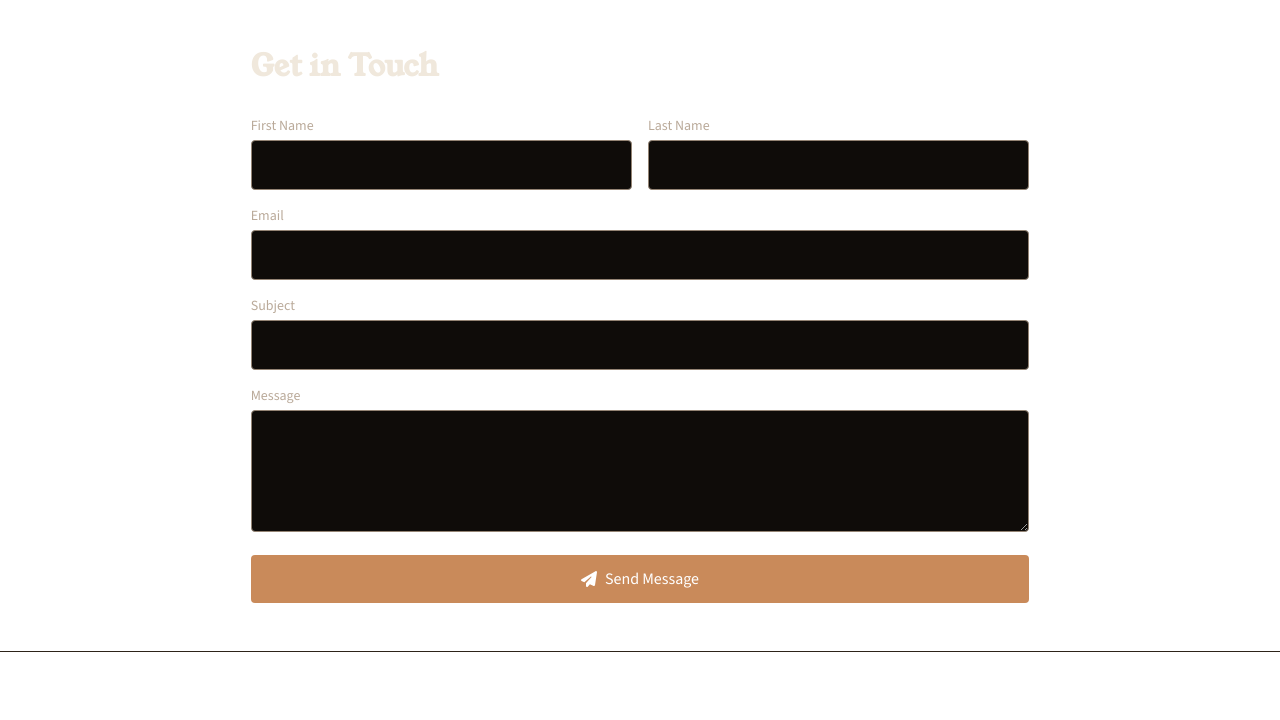
Test: Contact › shows field-specific length and email errors
The image size is (1280, 720).
In the field with id "firstName": (441, 165) left=251, top=140, right=632, bottom=190, type "A"
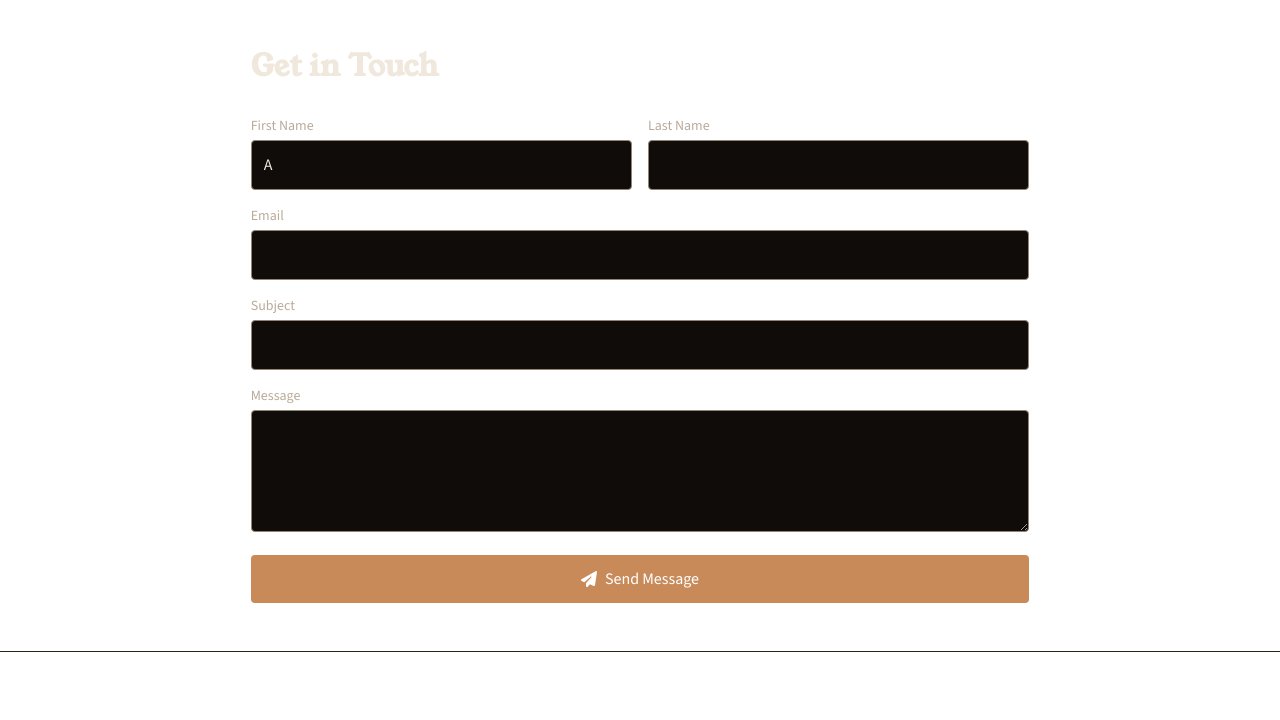
In the field with id "lastName": (839, 165) left=648, top=140, right=1029, bottom=190, type "B"
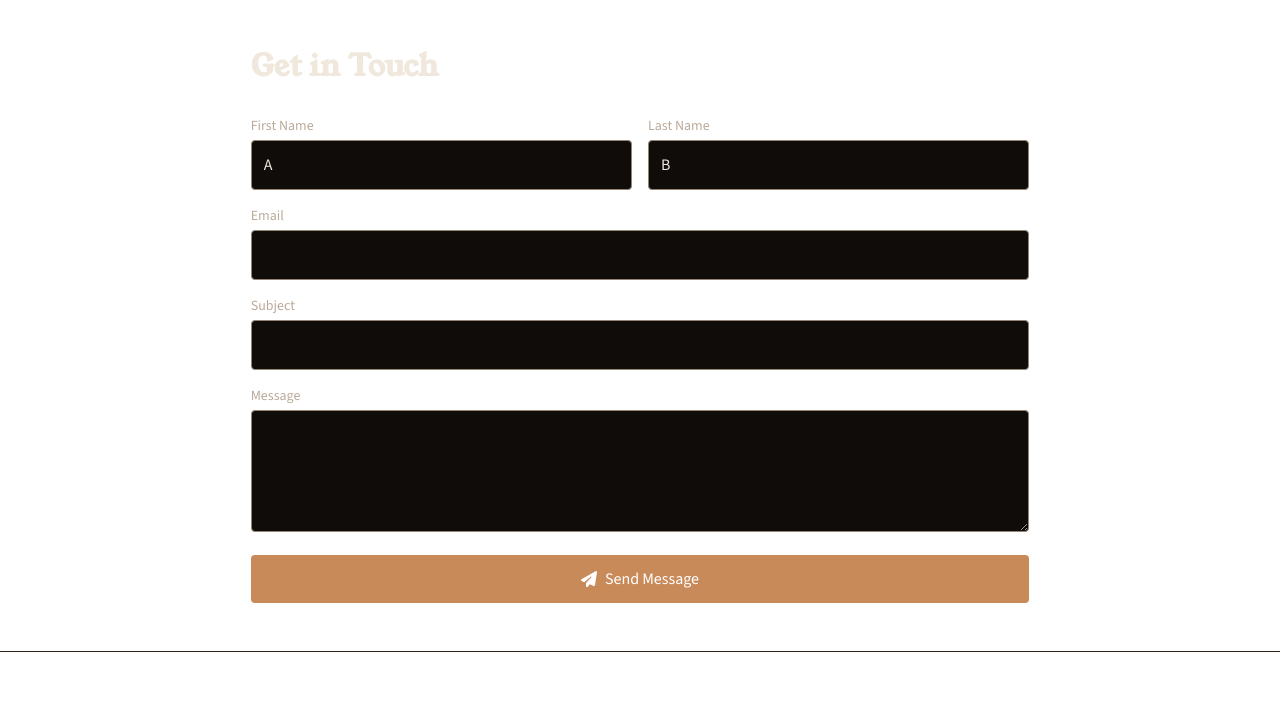
In the field with id "email": (640, 255) left=251, top=230, right=1029, bottom=280, type "not-an-email"
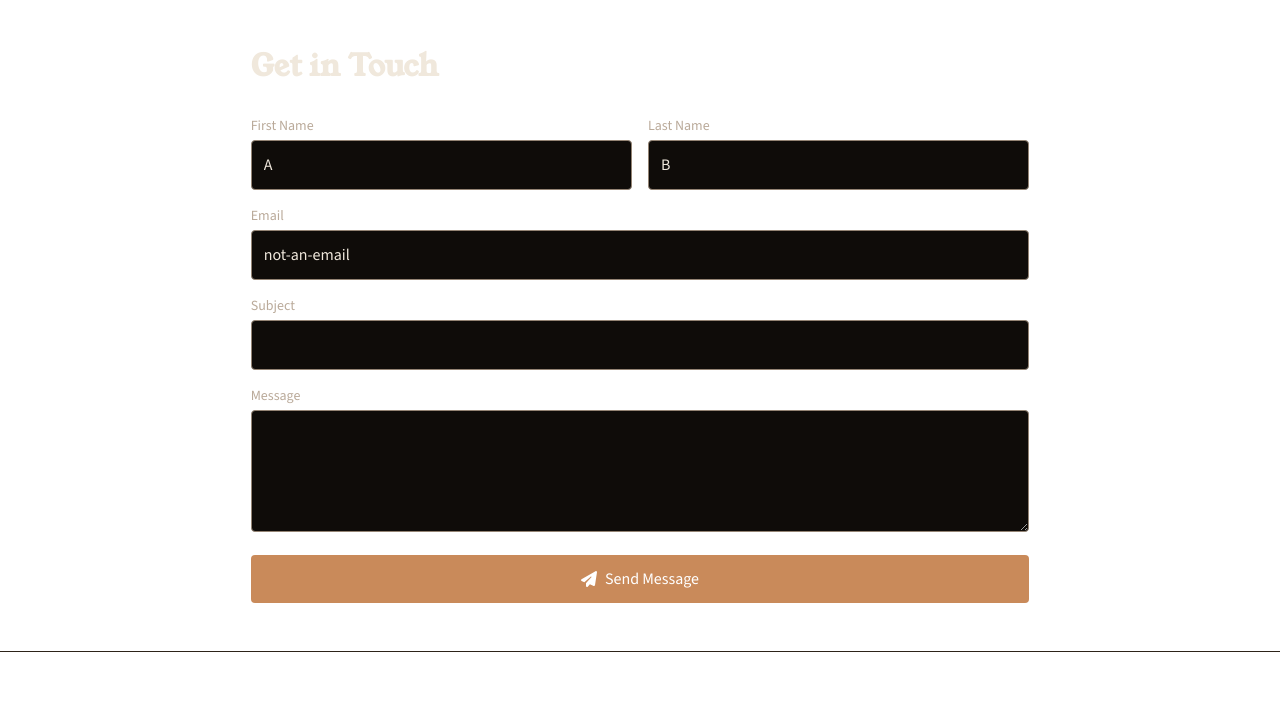
In the field with id "subject": (640, 345) left=251, top=320, right=1029, bottom=370, type "Hi"
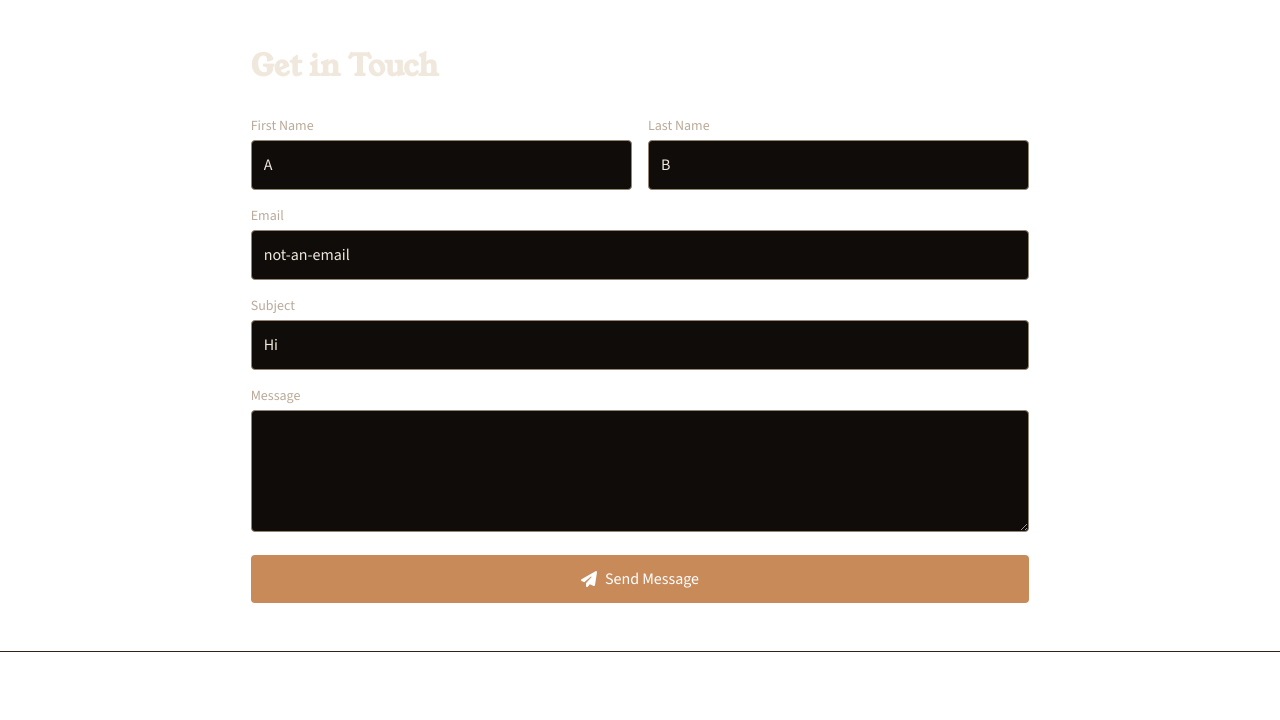
In the text box with id "message": (640, 471) left=251, top=410, right=1029, bottom=532, type "Too short"
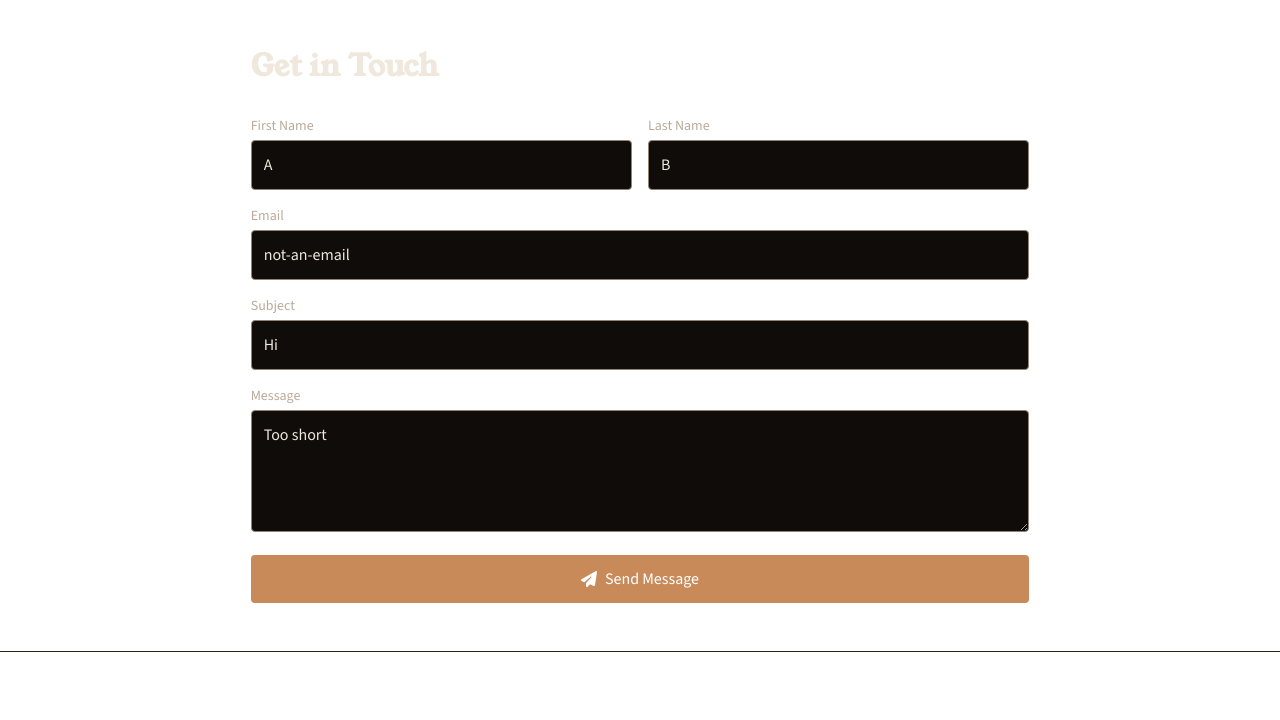
Submit the form, box left=251, top=116, right=1029, bottom=603
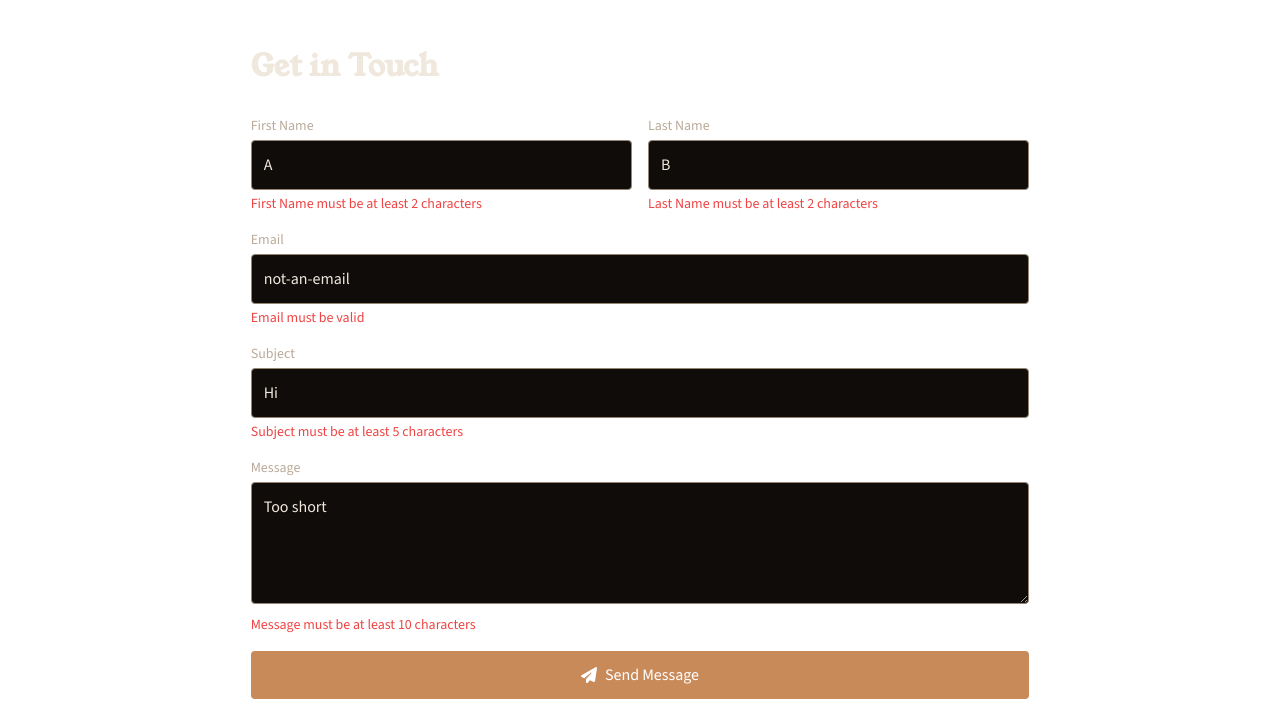
Expected: the text "First Name must be at least 2 characters" is shown, left=251, top=194, right=482, bottom=213
Expected: the text "Last Name must be at least 2 characters" is shown, left=648, top=194, right=878, bottom=213
Expected: the text "Email must be valid" is shown, left=251, top=308, right=364, bottom=327
